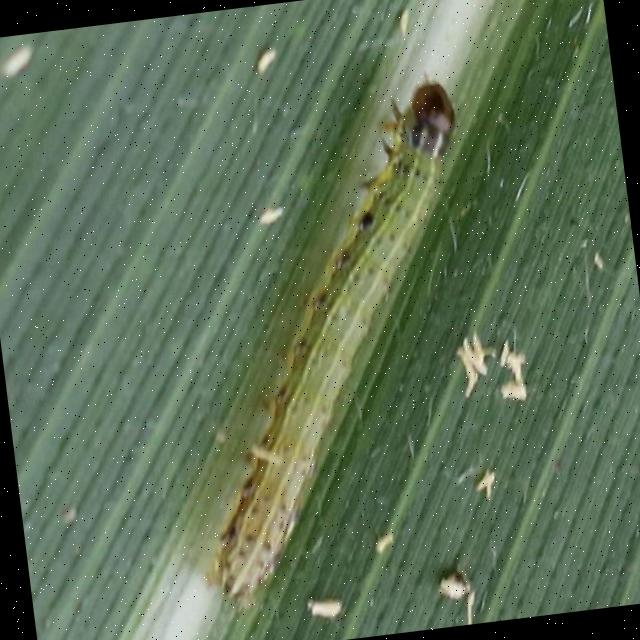worm: (152, 71, 515, 616), (403, 71, 463, 165)
